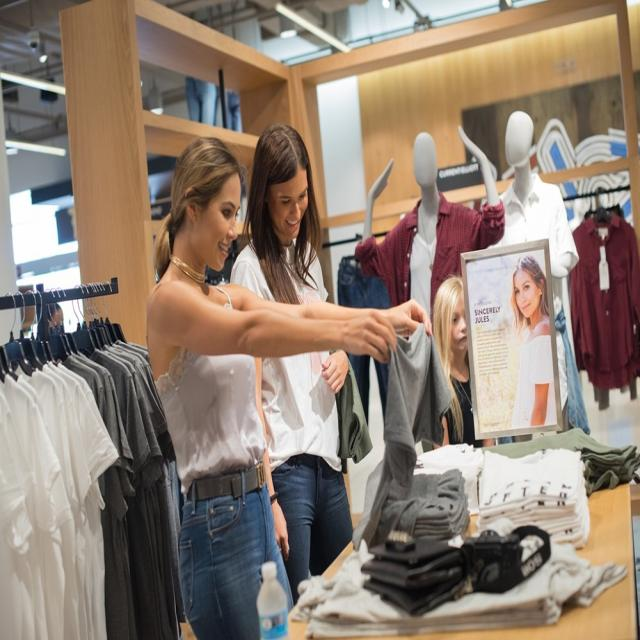body: (145, 133, 435, 640), (353, 105, 580, 452), (227, 118, 361, 612), (432, 274, 496, 448)
